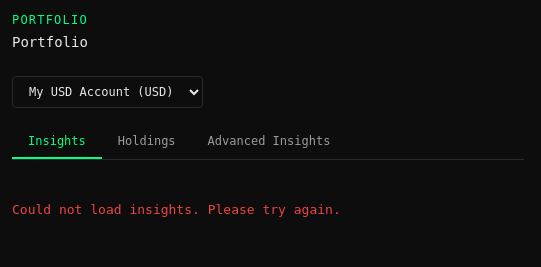
Scenario: PortfolioPage › PortfolioPage - 502 price error on Holdings tab - renders price unavailable message
Click the tab "Holdings" at (147,142), box [102,125,192,159]
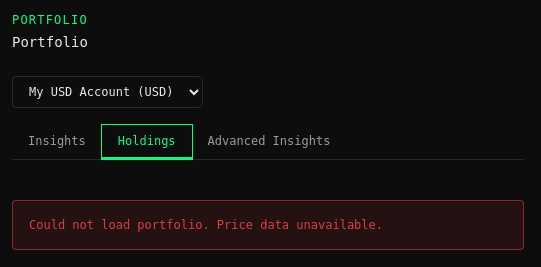
Check: the text "Could not load portfolio. Price data unavailable." is shown, box [29,218,383,232]
